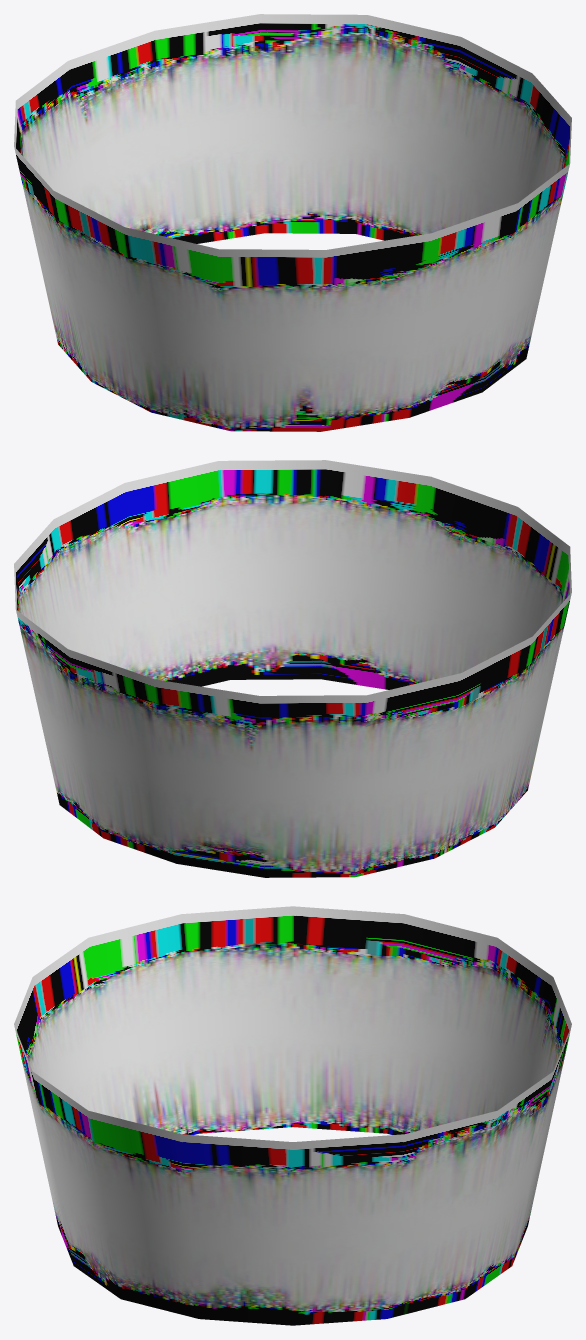
The model's file is Charge2Mesh.fbx.
The picture shows the model from 3 angles, top to bottom: view 1: azimuth 30°, elevation 25°; view 2: azimuth 150°, elevation 25°; view 3: azimuth 270°, elevation 25°; orthographic projection.
Parts seen in each view (by area): view 1: pCube1; view 2: pCube1; view 3: pCube1.
Boxes of the visible parts, left/top/right/bottom form: pCube1: left=14, top=14, right=571, bottom=431; pCube1: left=14, top=460, right=571, bottom=877; pCube1: left=14, top=906, right=571, bottom=1325.
Bounding box in the file's own units: 128 × 51.21 × 128.
1 material, 1 textured.
